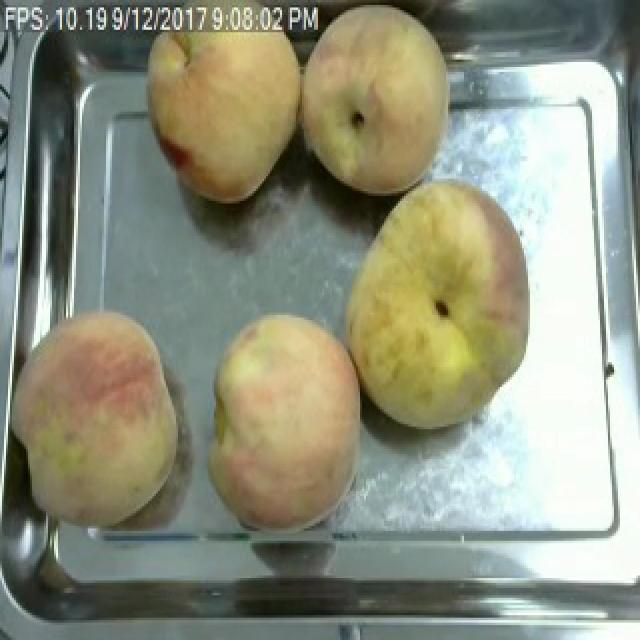Fruit: (328, 171, 542, 437), (6, 298, 190, 538), (196, 302, 374, 536), (294, 2, 460, 204), (134, 27, 310, 211)
